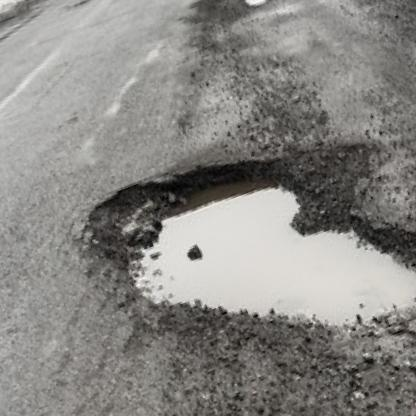pothole: (83, 89, 416, 416), (241, 0, 280, 12)
